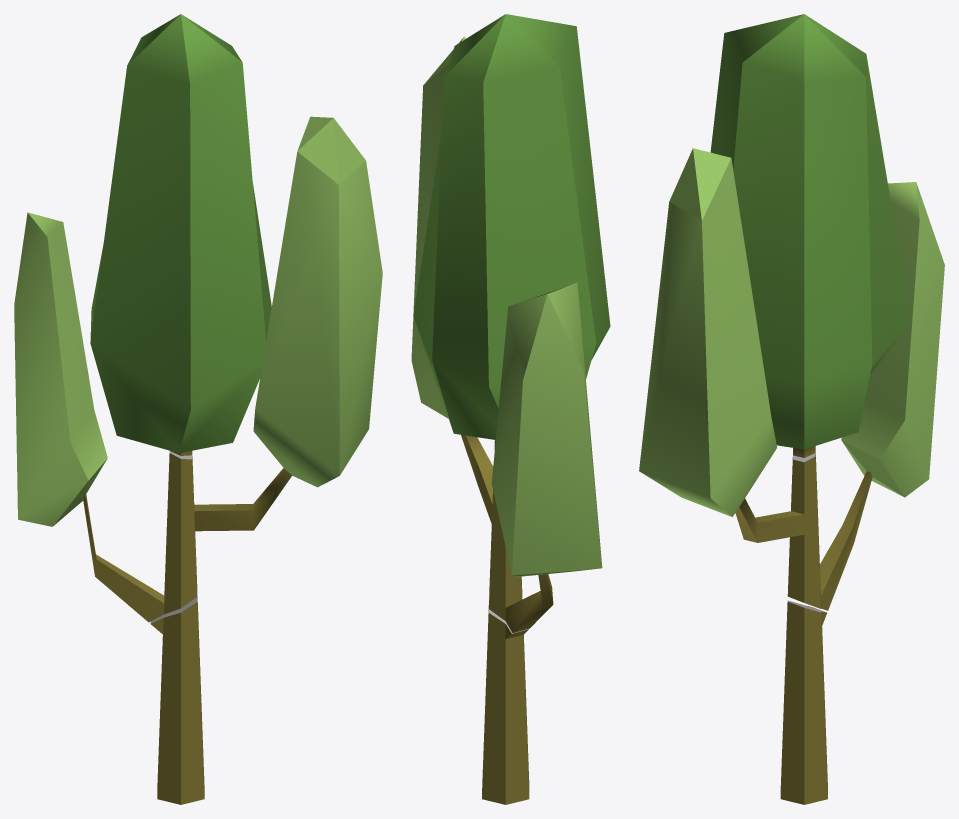
Rendered from Tree3_DEST.fbx.
3 views of the same model, side by side, from view 1: azimuth 30°, elevation 25°; view 2: azimuth 150°, elevation 25°; view 3: azimuth 270°, elevation 25° (orthographic).
Visible parts, largest first — view 1: cay_2.002, cay_2.001, cay_2; view 2: cay_2.001, cay_2.002, cay_2; view 3: cay_2.001, cay_2.002, cay_2.
Part boxes in pixels (x1,y1,x2,y2): cay_2.002: (14, 116, 382, 622); cay_2.001: (90, 14, 271, 455); cay_2: (150, 596, 204, 804); cay_2.001: (413, 14, 610, 449); cay_2.002: (411, 36, 602, 632); cay_2: (482, 596, 529, 804); cay_2.001: (710, 14, 910, 457); cay_2.002: (639, 148, 944, 610); cay_2: (780, 600, 827, 804).
Bounding box in the file's own units: 461 × 1268 × 451.
